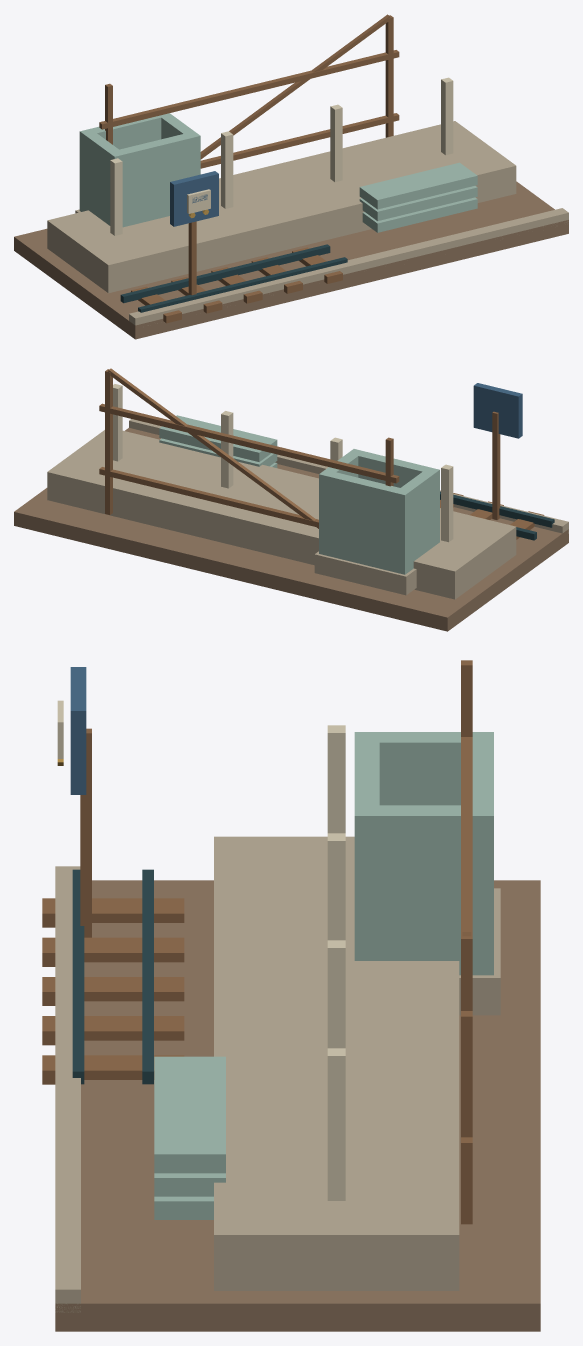
The model's file is train-station-seabreeze-half-built.glb.
3 renders of one model, top to bottom at view 1: azimuth 30°, elevation 25°; view 2: azimuth 150°, elevation 25°; view 3: azimuth 270°, elevation 25°, orthographic. The views are drawn at different scales.
Visible parts, largest first — view 1: train-station; view 2: train-station; view 3: train-station.
Part boxes in pixels (bbox=[...]): train-station: bbox=[14, 14, 568, 339]; train-station: bbox=[14, 368, 568, 631]; train-station: bbox=[42, 660, 540, 1331].
Size of the model in its own units: 3.88 by 1.39 by 1.93.
